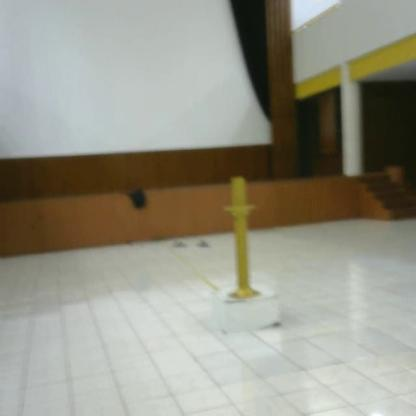pole: (220, 169, 266, 307)
